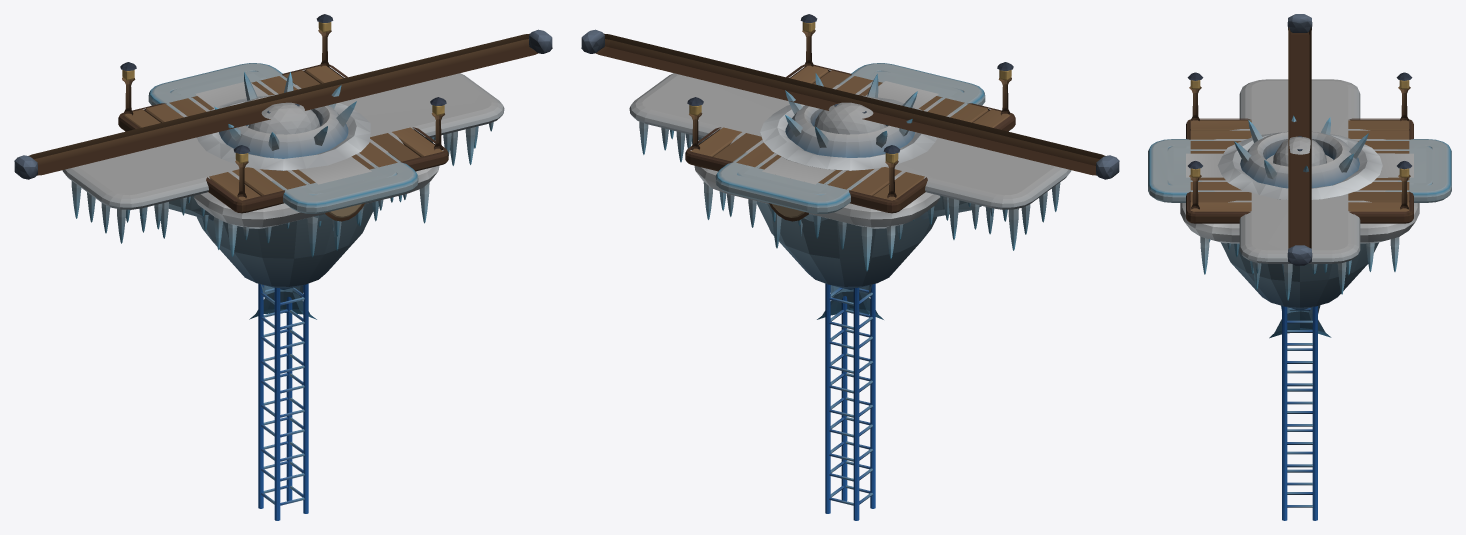
File: glacier-3-C7Y94aLM.glb
3 views of the same model, side by side, from view 1: azimuth 30°, elevation 25°; view 2: azimuth 150°, elevation 25°; view 3: azimuth 270°, elevation 25° (orthographic). The views are drawn at different scales.
Parts seen in each view (by area): view 1: block_22x2x6#0, pad_12x2x12#0, mount_14.4#0, truss_20#0, disc_12x1.5#0, geyserVent_3.9#0, block_7x2x16_ice#1, beam_3x1.5x12#1, boulder_4x3#0, block_18x2x6#0, block_6x2x14.5_ice#1, support_1_round#0; view 2: block_22x2x6#0, pad_12x2x12#0, mount_14.4#0, truss_20#0, disc_12x1.5#0, geyserVent_3.9#0, block_7x2x16_ice#1, beam_3x1.5x12#1, boulder_4x3#0, block_18x2x6#0, block_6x2x14.5_ice#1, support_1_round#0; view 3: pad_12x2x12#0, block_22x2x6#0, geyserVent_3.9#0, mount_14.4#0, disc_12x1.5#0, block_7x2x16_ice#1, truss_20#0, beam_3x1.5x12#1, boulder_4x3#0, block_6x2x14.5_ice#1, support_1_round#0, block_18x2x6#0.
Part boxes in pixels (<box>): block_22x2x6#0: <box>62,73,504,243</box>; pad_12x2x12#0: <box>118,14,448,257</box>; mount_14.4#0: <box>14,29,552,179</box>; truss_20#0: <box>258,283,308,520</box>; disc_12x1.5#0: <box>178,84,403,289</box>; geyserVent_3.9#0: <box>197,72,370,170</box>; block_7x2x16_ice#1: <box>148,63,418,221</box>; beam_3x1.5x12#1: <box>195,82,371,230</box>; boulder_4x3#0: <box>248,102,320,134</box>; block_18x2x6#0: <box>126,122,457,232</box>; block_6x2x14.5_ice#1: <box>170,71,396,195</box>; support_1_round#0: <box>249,284,316,319</box>; block_22x2x6#0: <box>629,73,1071,250</box>; pad_12x2x12#0: <box>685,14,1015,271</box>; mount_14.4#0: <box>581,29,1119,179</box>; truss_20#0: <box>825,283,875,520</box>; disc_12x1.5#0: <box>730,84,955,289</box>; geyserVent_3.9#0: <box>760,73,937,170</box>; block_7x2x16_ice#1: <box>715,63,985,221</box>; beam_3x1.5x12#1: <box>762,81,938,235</box>; boulder_4x3#0: <box>814,102,885,134</box>; block_18x2x6#0: <box>676,122,1007,239</box>; block_6x2x14.5_ice#1: <box>737,71,963,195</box>; support_1_round#0: <box>817,284,883,319</box>; pad_12x2x12#0: <box>1180,72,1419,275</box>; block_22x2x6#0: <box>1239,79,1360,300</box>; geyserVent_3.9#0: <box>1217,115,1382,199</box>; mount_14.4#0: <box>1287,14,1312,265</box>; disc_12x1.5#0: <box>1201,129,1398,310</box>; block_7x2x16_ice#1: <box>1148,139,1451,202</box>; truss_20#0: <box>1282,306,1317,520</box>; beam_3x1.5x12#1: <box>1186,153,1413,177</box>; boulder_4x3#0: <box>1273,136,1326,166</box>; block_6x2x14.5_ice#1: <box>1167,145,1432,185</box>; support_1_round#0: <box>1269,305,1331,338</box>; block_18x2x6#0: <box>1240,105,1359,274</box>.
Bounding box in the file's own units: 29.7 × 23.05 × 16.
